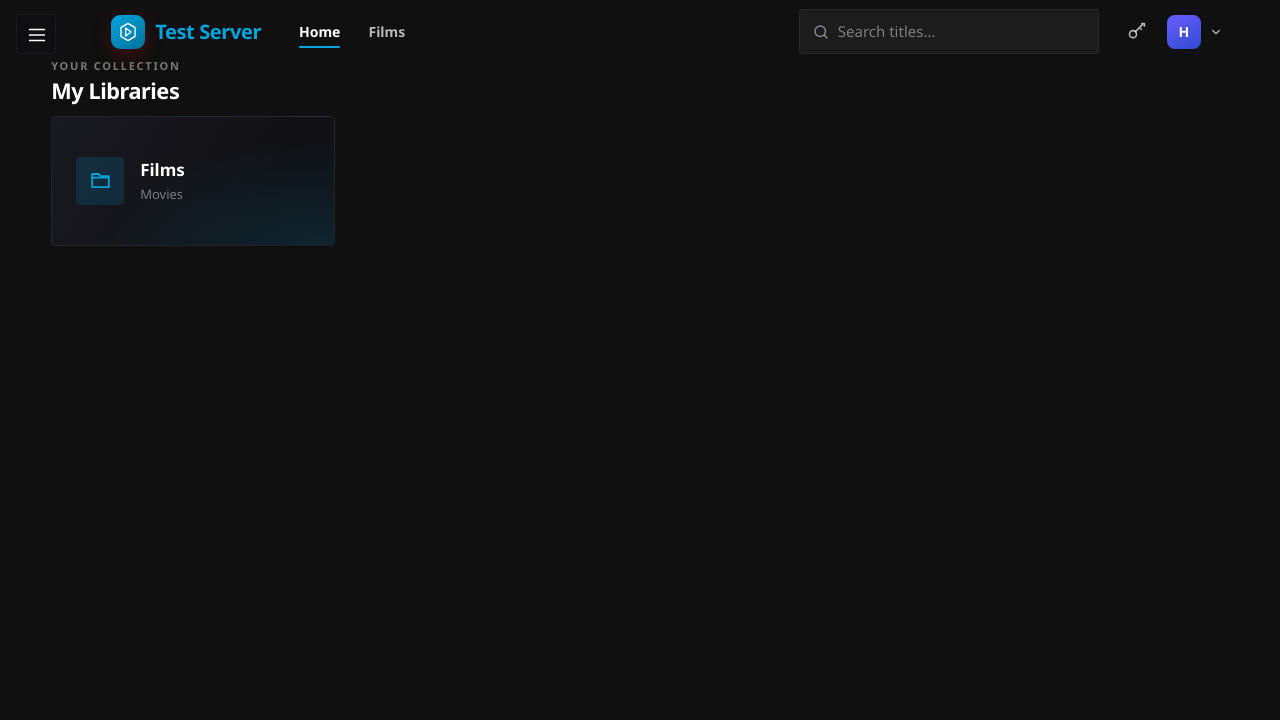
it: in-app navigation › opens user management from the sidebar
Check: the heading "My Libraries" is shown, box [51,78,181,102]
Click the button named "open navigation menu".
click(36, 34)  # box [16,14,56,54]
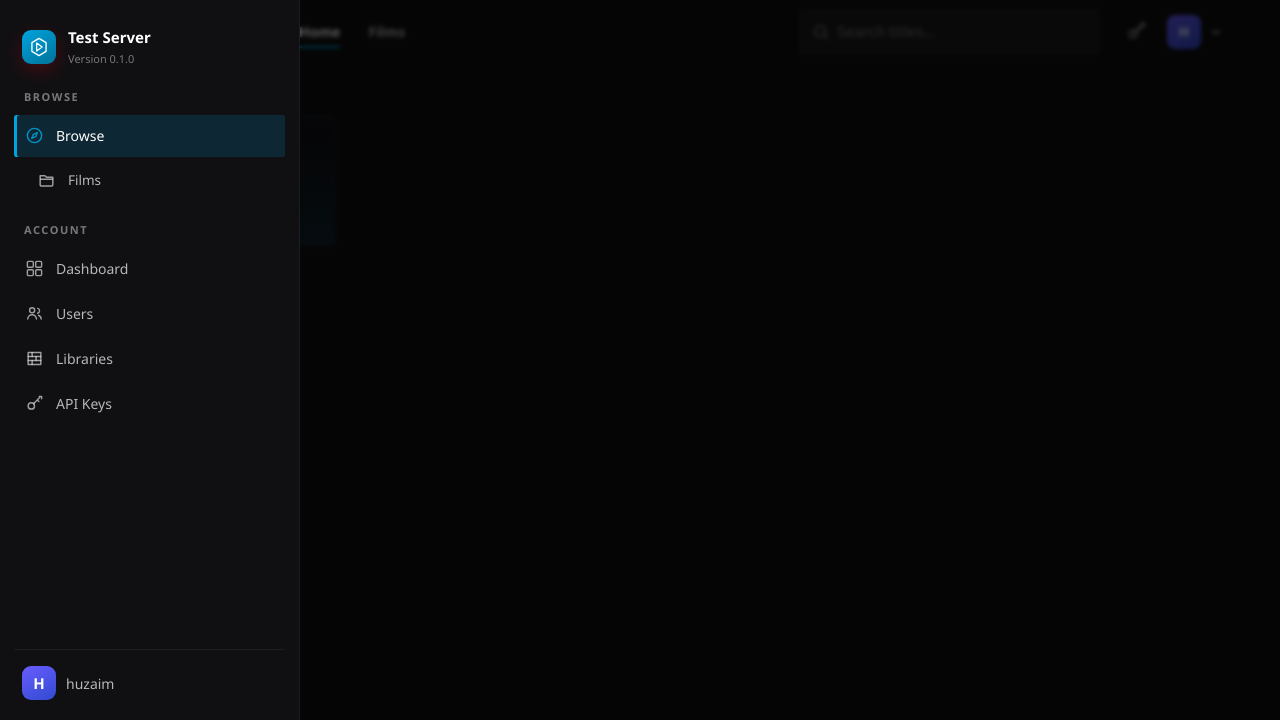
Click the button "Users".
click(75, 313)  # box [14,292,285,334]
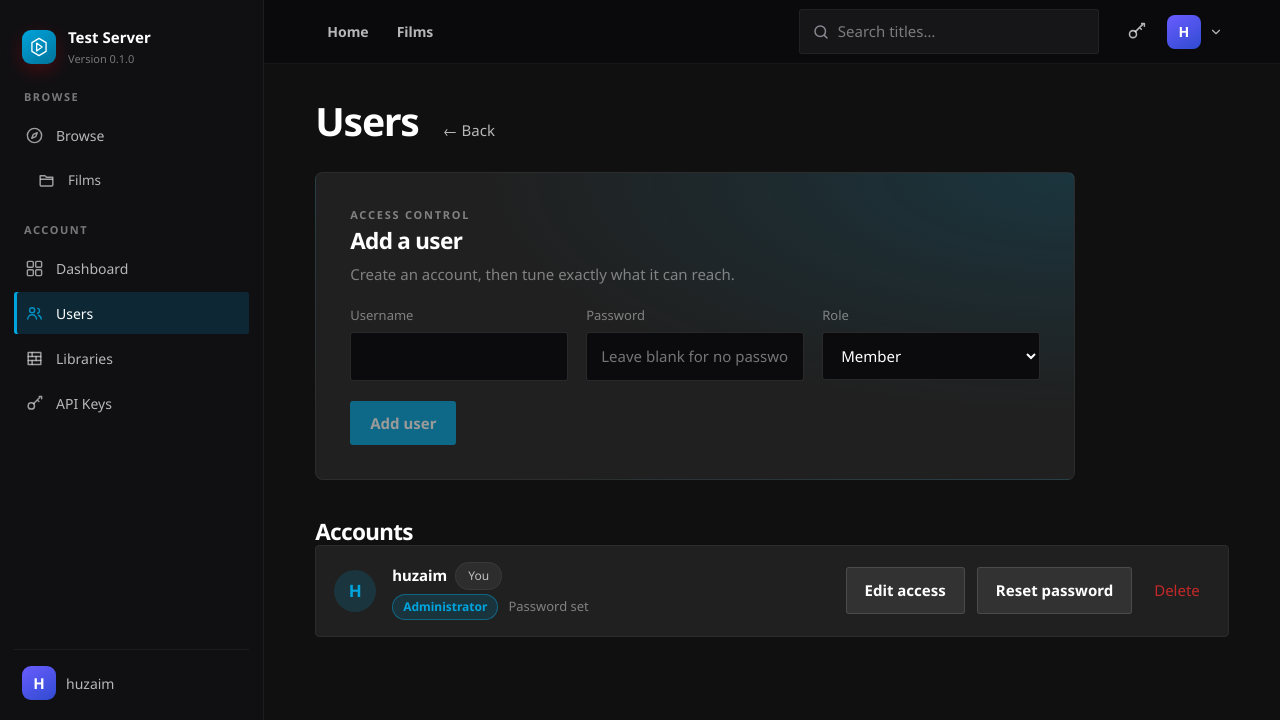
Check: the heading "Users" is shown, box [315,100,419,142]
